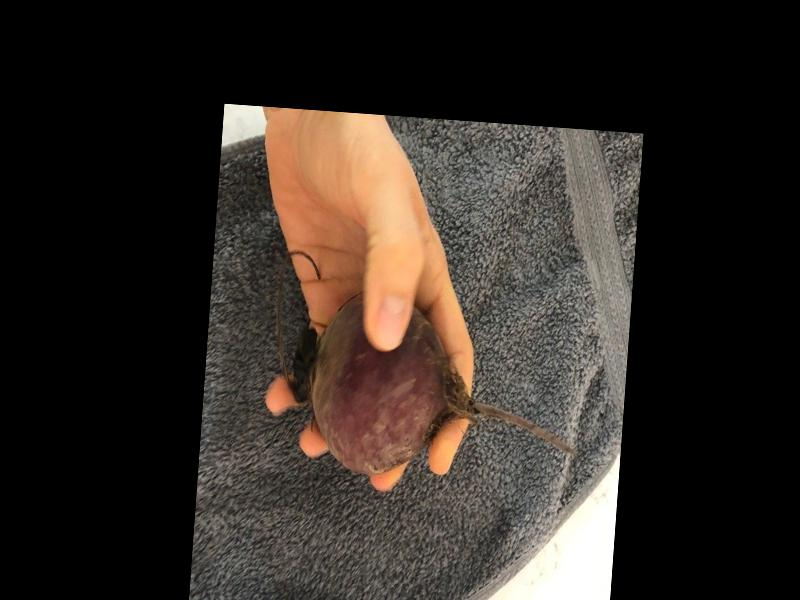Beet: (286, 287, 589, 489)
